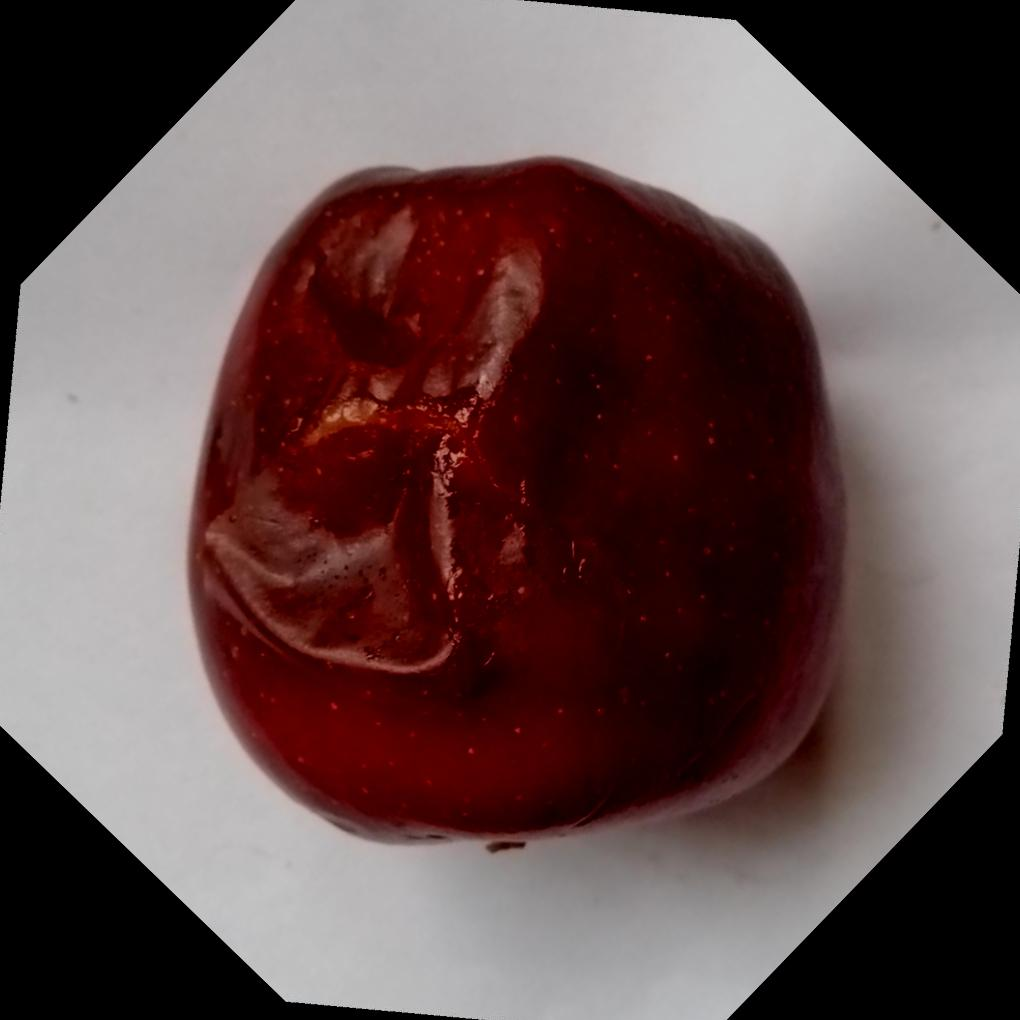FreshOrange: (186, 152, 852, 851)
